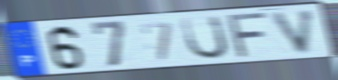6: (45, 24, 86, 71)
7: (89, 19, 129, 69), (141, 21, 174, 62)
F: (227, 10, 272, 60)
U: (179, 14, 231, 61)
V: (269, 8, 319, 56)
